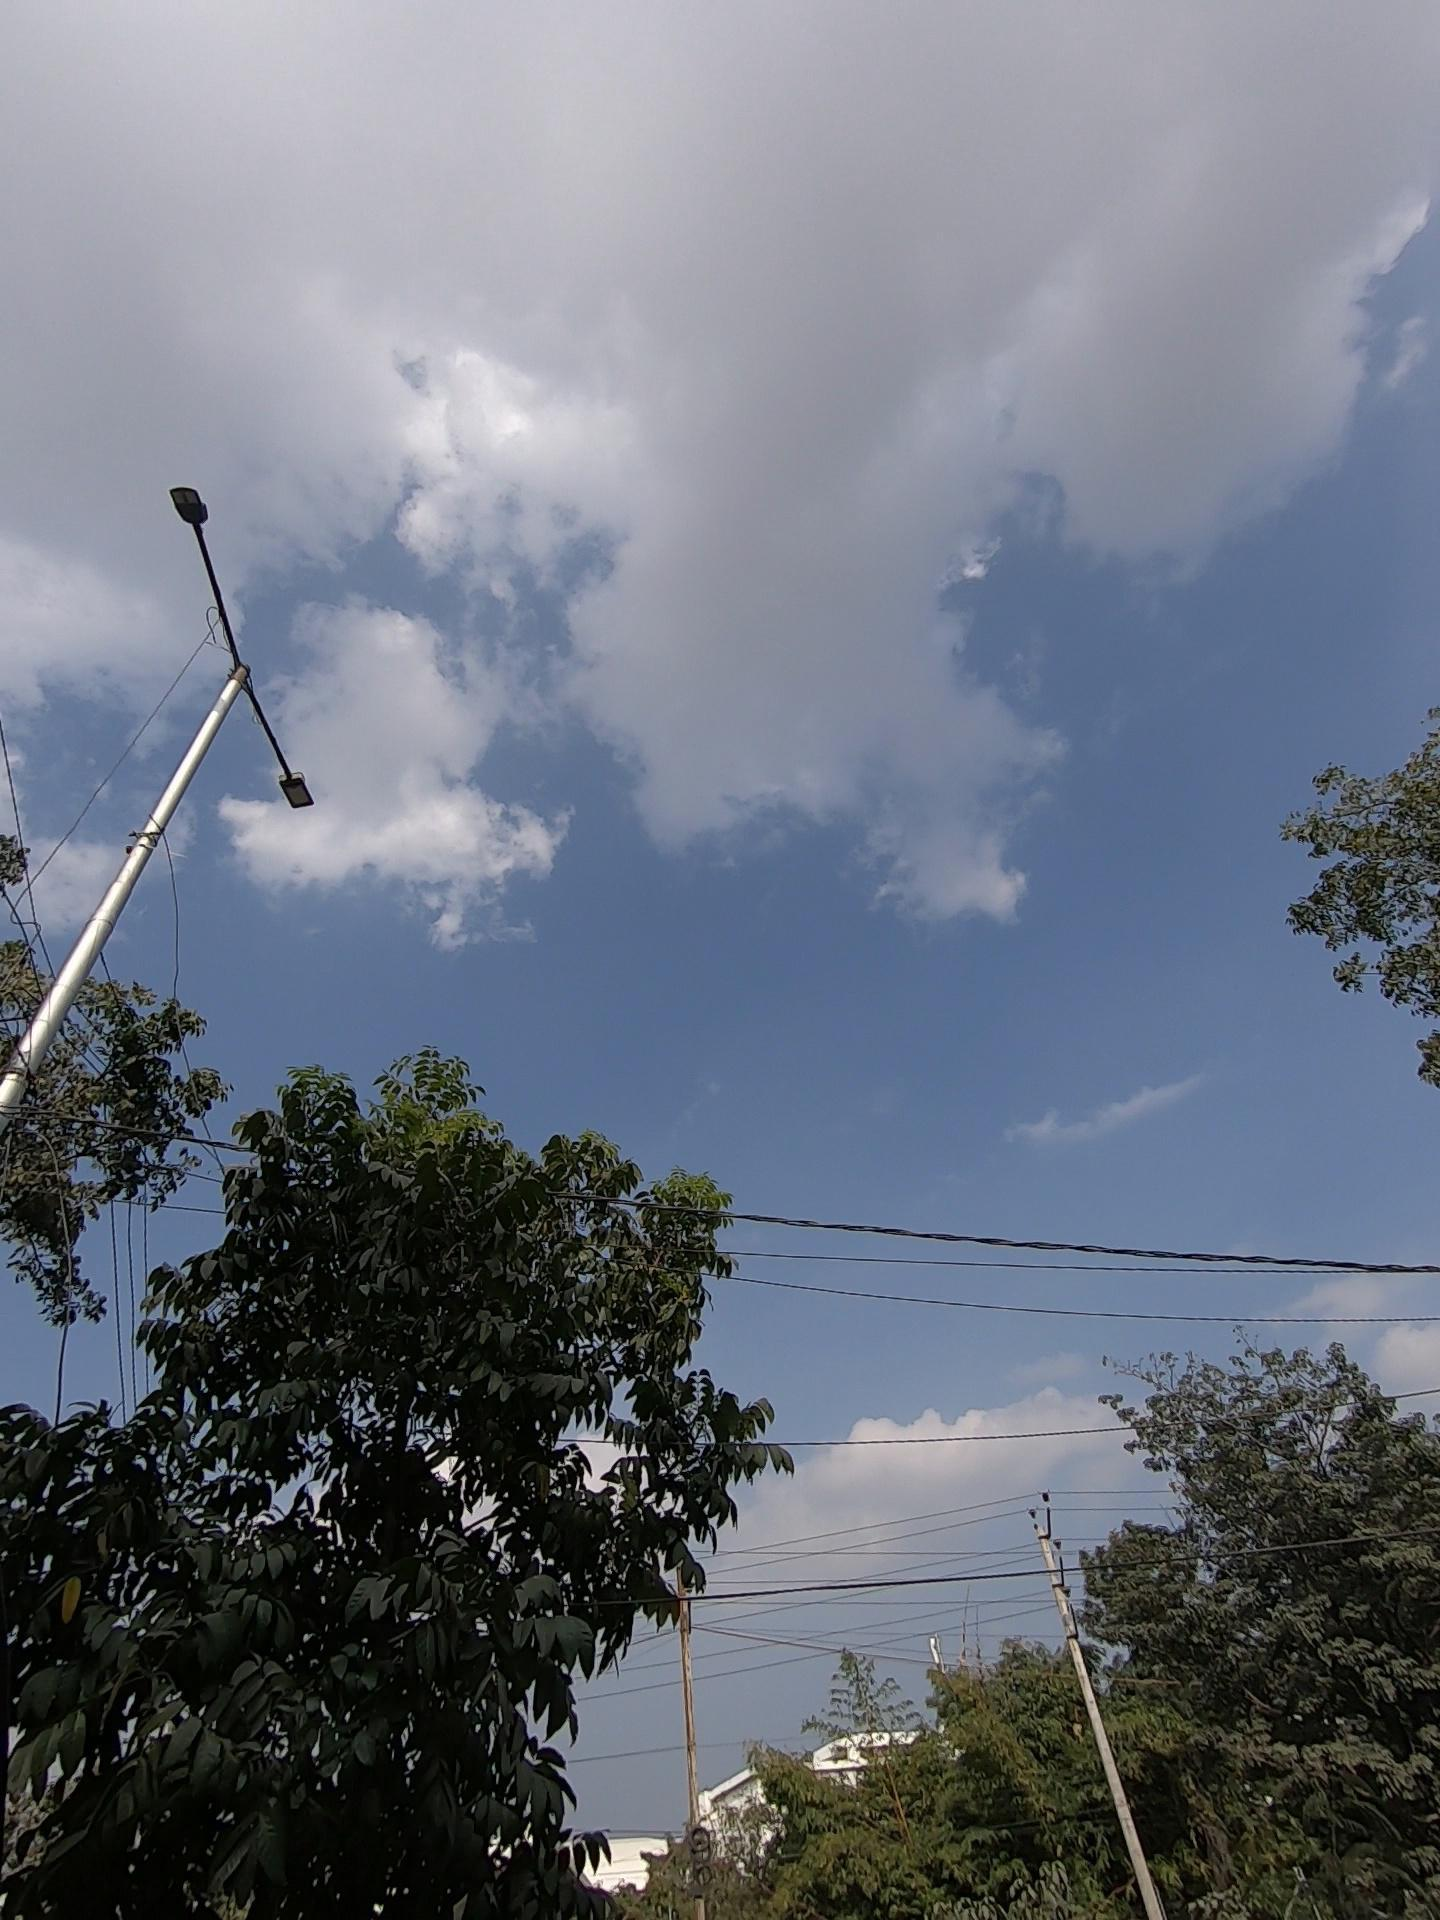off: (145, 420, 360, 868)
